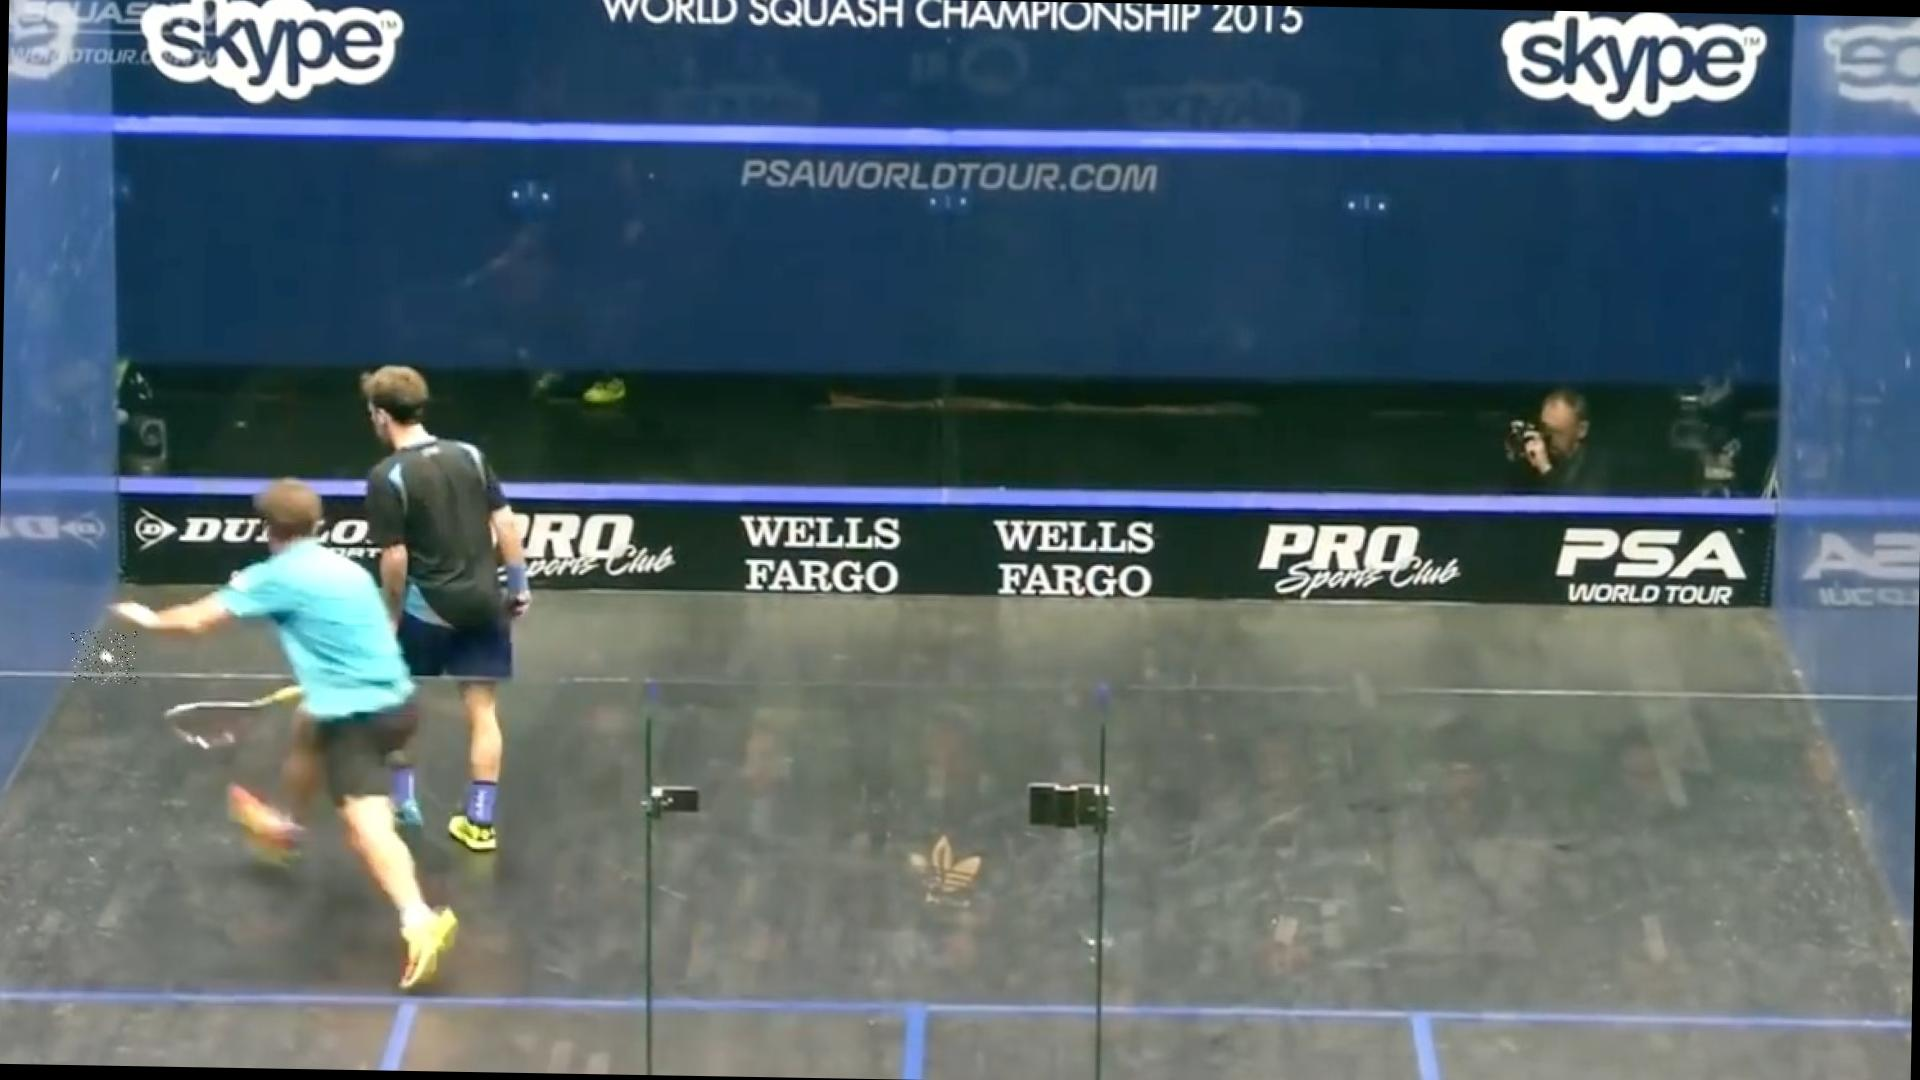Squash-Ball: (70, 629, 141, 684)
